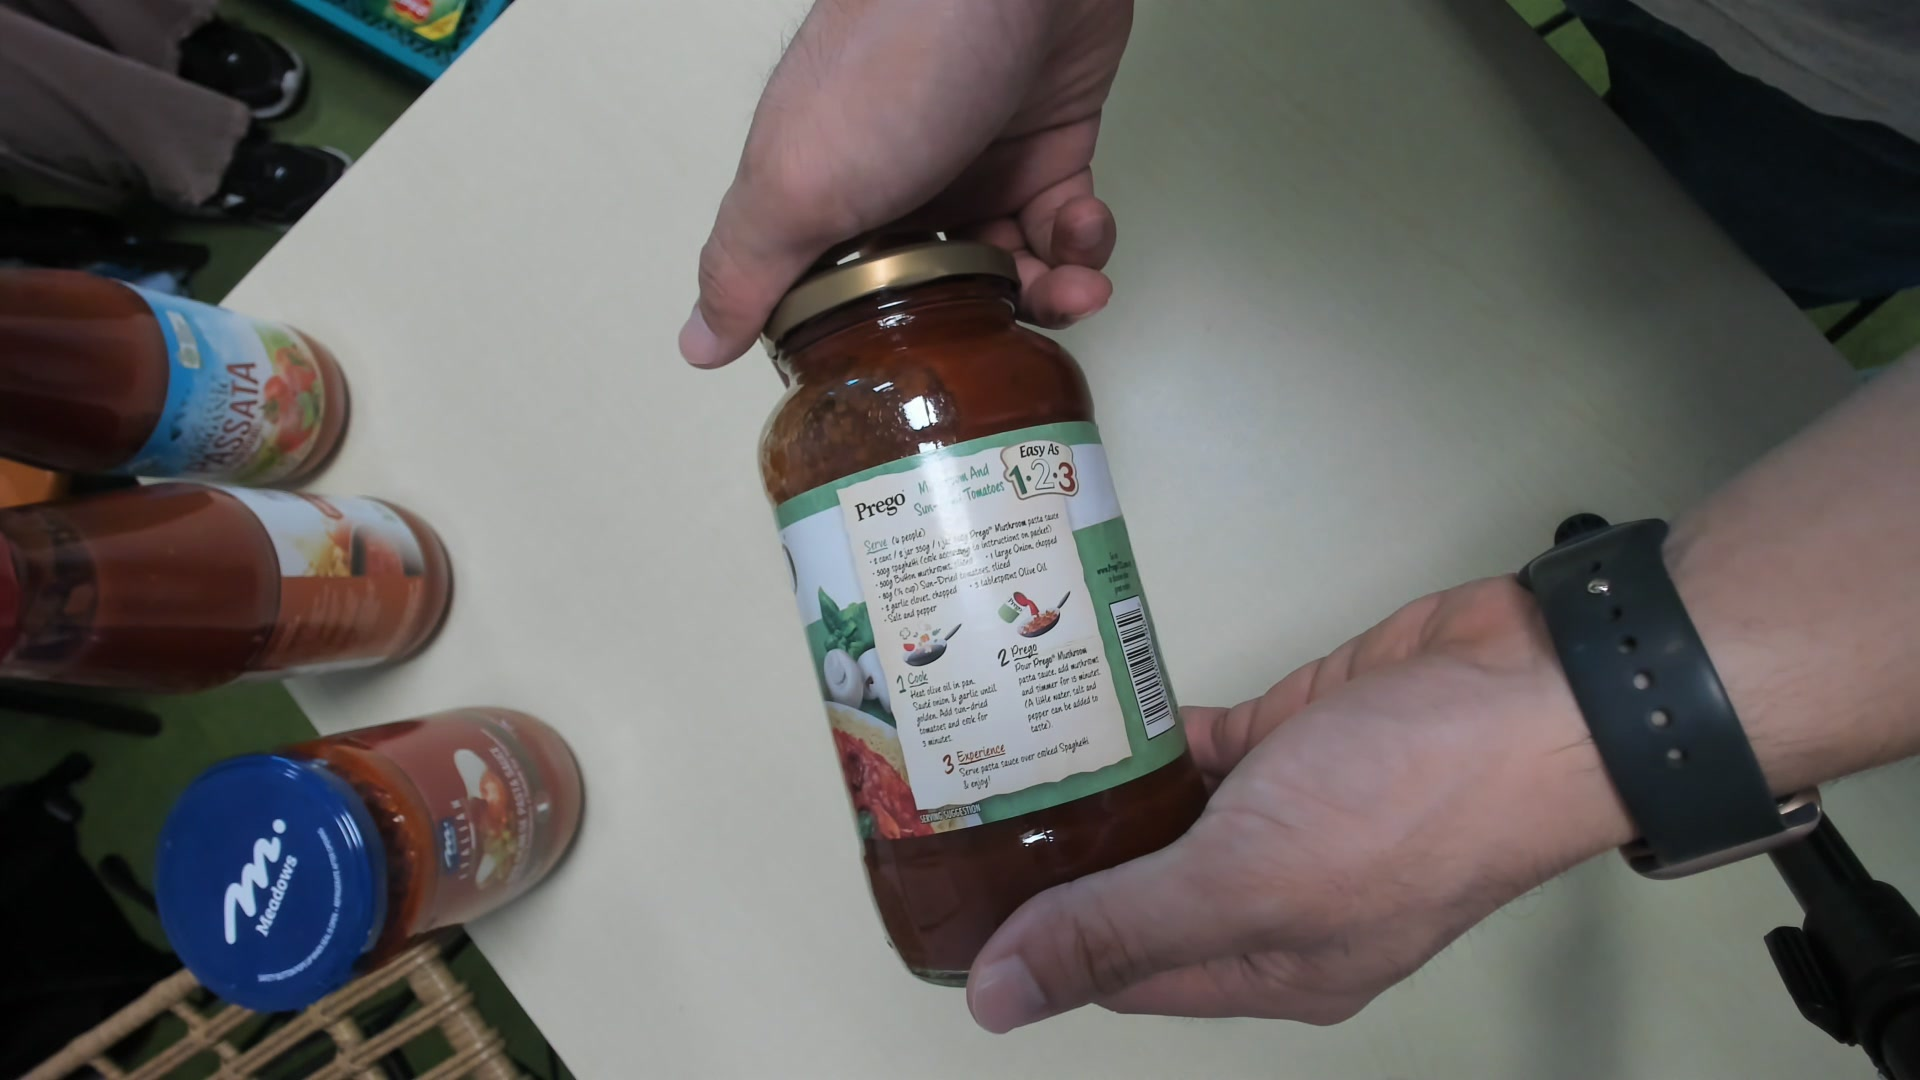PastaSauce_600-699g_Halal_NonHealthy: (761, 249, 1200, 993)
